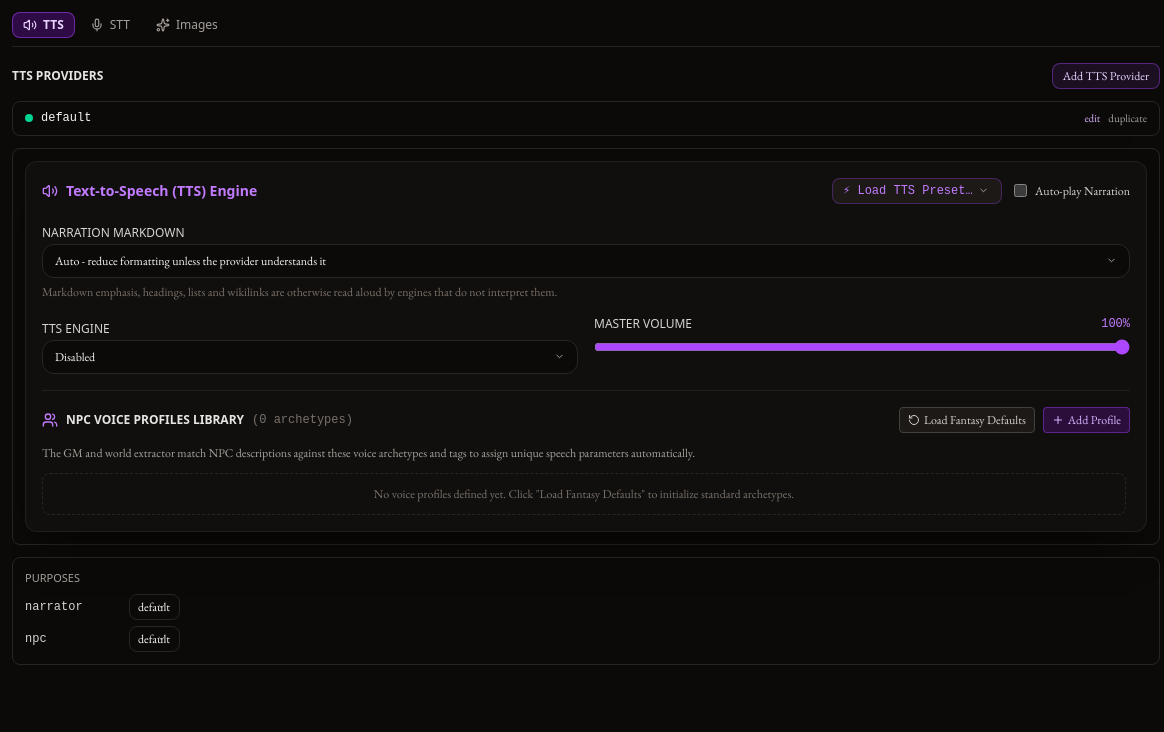
Scenario: MediaPanel › switches to STT tab and renders speech-to-text editor
Click the tab "STT".
click(110, 25)  # box top-left (79, 12), bottom-right (141, 38)
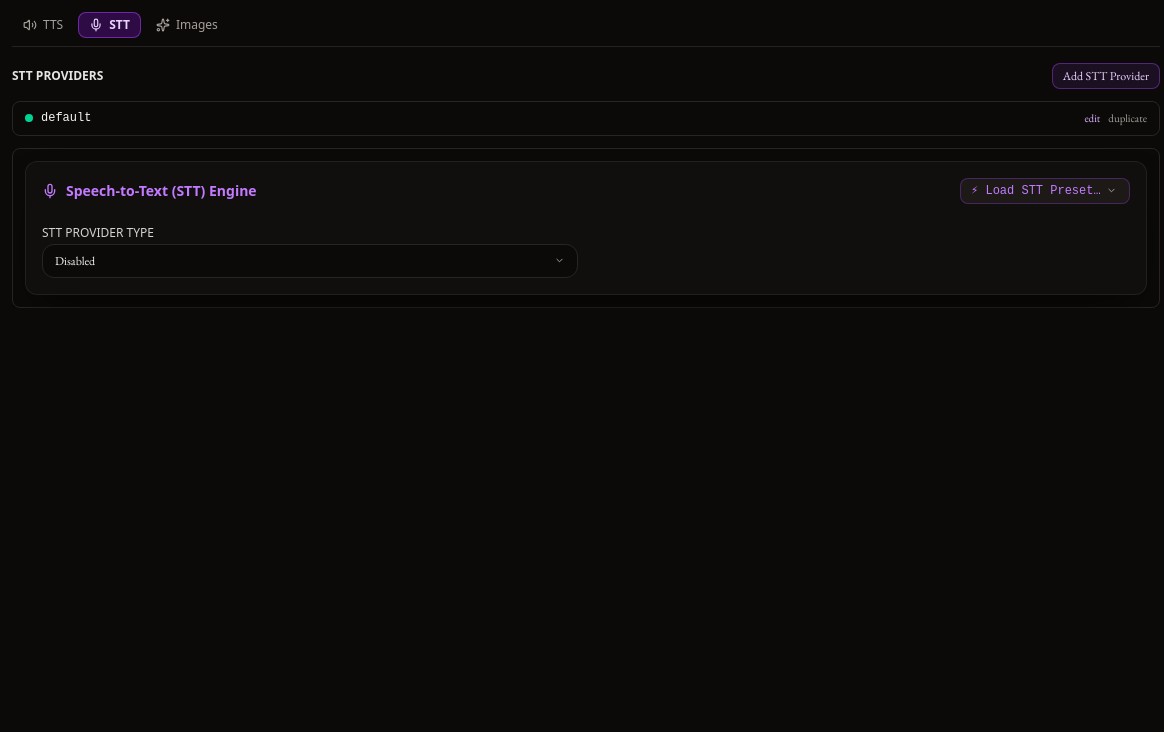
Check: the heading "STT Providers" is shown, box top-left (12, 68), bottom-right (103, 84)
